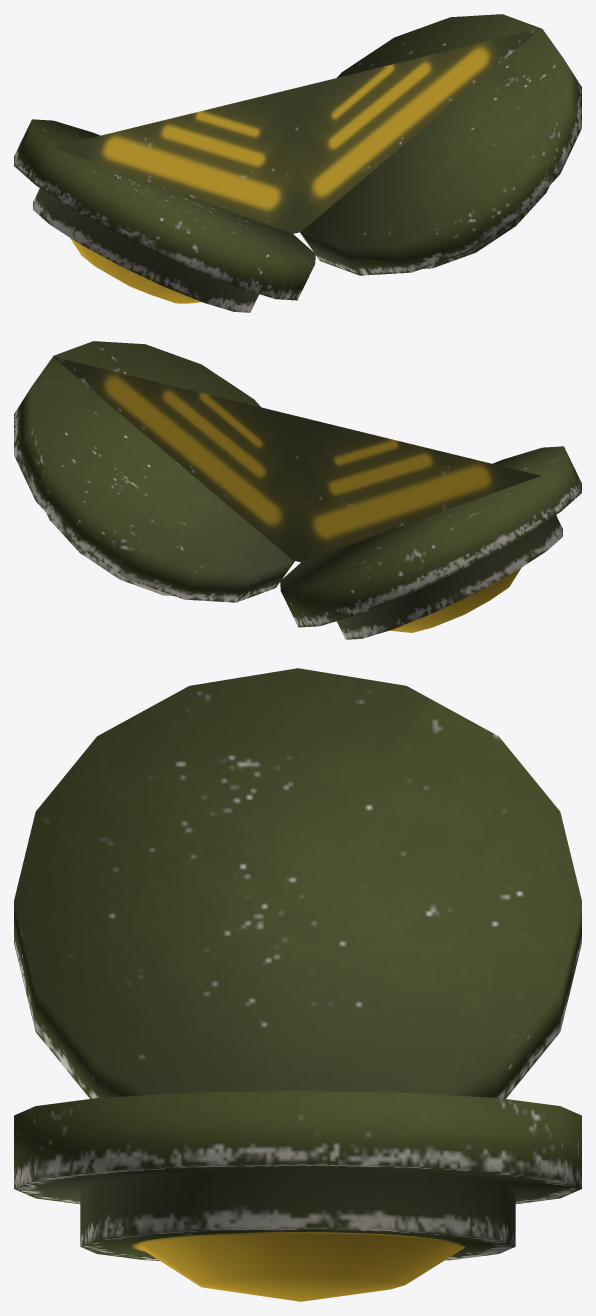
The model's file is Boss001_Fire_Tower001.FBX.
3 views of the same model, one above another, from view 1: azimuth 30°, elevation 25°; view 2: azimuth 150°, elevation 25°; view 3: azimuth 270°, elevation 25° (orthographic). The views are drawn at different scales.
Visible parts, largest first — view 1: Boss001_Fire_Tower001; view 2: Boss001_Fire_Tower001; view 3: Boss001_Fire_Tower001.
Part boxes in pixels (left/top/right/bottom): Boss001_Fire_Tower001: left=14, top=14, right=581, bottom=312; Boss001_Fire_Tower001: left=14, top=341, right=581, bottom=639; Boss001_Fire_Tower001: left=14, top=668, right=581, bottom=1301.
Size of the model in its own units: 507 by 172 by 268.
